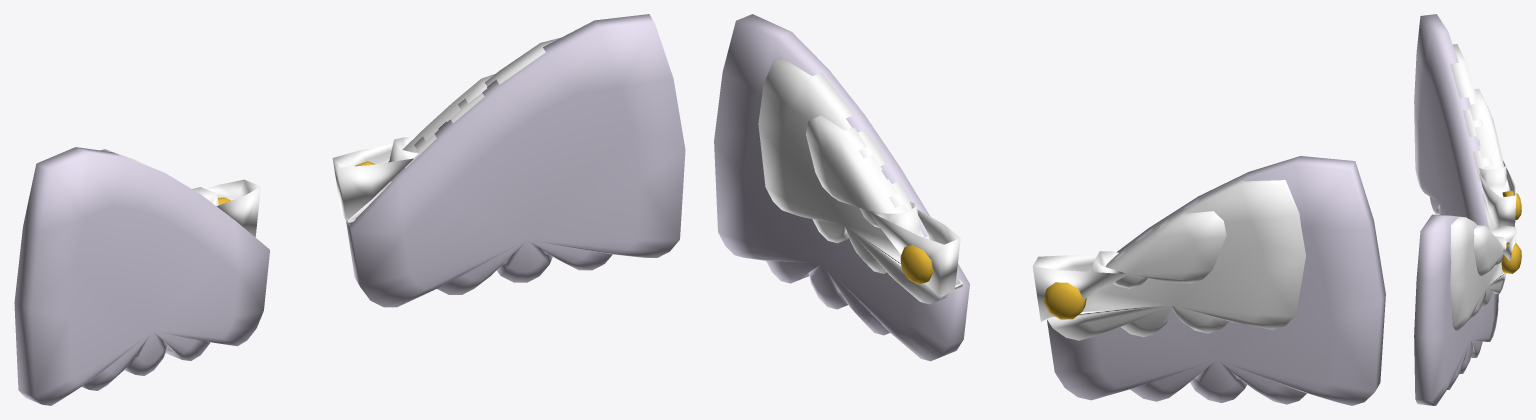
Rendered from ailes_ange.fbx.
3 renders of one model, left to right at view 1: azimuth 30°, elevation 25°; view 2: azimuth 150°, elevation 25°; view 3: azimuth 270°, elevation 25°, orthographic. The views are drawn at different scales.
Parts seen in each view (by area): view 1: Anim_RangBasGauche, Anim_RangBasDroite, AileGauche, AileDroite, Anim_RangMilieuGauche; view 2: Anim_RangBasDroite, Anim_RangBasGauche, Anim_RangMilieuDroite, Anim_RangMilieuGauche, AileDroite, AileGauche; view 3: Anim_RangBasDroite, Anim_RangBasGauche, Anim_RangMilieuGauche, AileDroite, AileGauche, Anim_RangMilieuDroite.
Part boxes in pixels (<box>): Anim_RangBasGauche: <box>346,14,685,307</box>; Anim_RangBasDroite: <box>14,147,269,405</box>; AileGauche: <box>332,74,494,220</box>; AileDroite: <box>192,179,260,237</box>; Anim_RangMilieuGauche: <box>346,37,560,225</box>; Anim_RangBasDroite: <box>1047,156,1385,405</box>; Anim_RangBasGauche: <box>714,14,969,361</box>; Anim_RangMilieuDroite: <box>1047,176,1305,340</box>; Anim_RangMilieuGauche: <box>758,57,962,304</box>; AileDroite: <box>1032,209,1226,321</box>; AileGauche: <box>805,115,960,296</box>; Anim_RangBasDroite: <box>1414,14,1489,230</box>; Anim_RangBasGauche: <box>1414,214,1498,405</box>; Anim_RangMilieuGauche: <box>1450,216,1505,330</box>; AileDroite: <box>1469,88,1521,227</box>; AileGauche: <box>1474,225,1521,275</box>; Anim_RangMilieuDroite: <box>1450,44,1498,230</box>.
Size of the model in its own units: 1.83 by 0.6736 by 0.3498.
